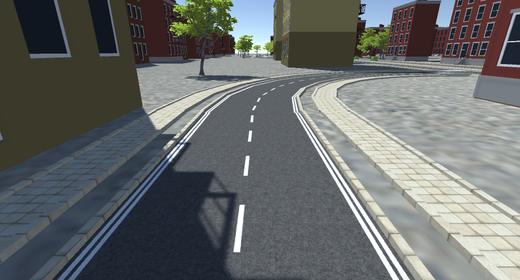centerstrip: (227, 83, 283, 264)
sidestripe: (50, 80, 230, 277), (293, 91, 413, 280)
